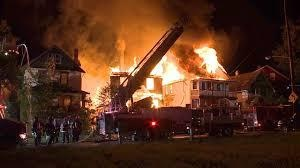fire: (194, 45, 223, 75)
